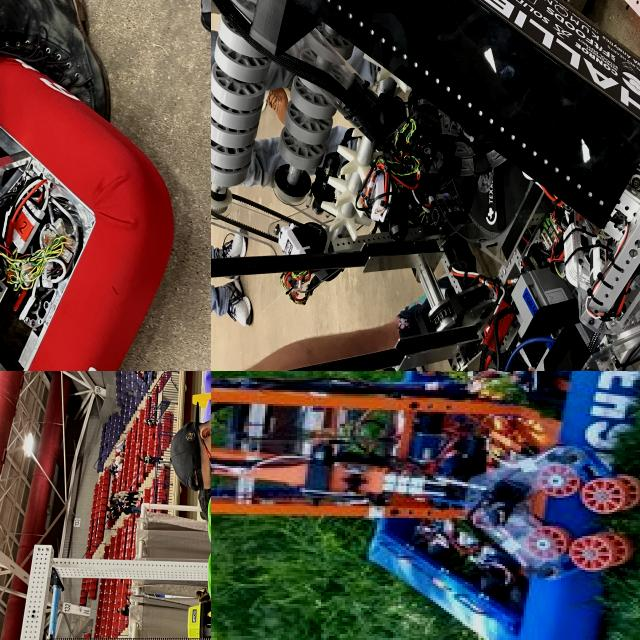FRC-Robots: (211, 0, 640, 371), (211, 371, 640, 640), (0, 0, 180, 371), (10, 371, 211, 640)
